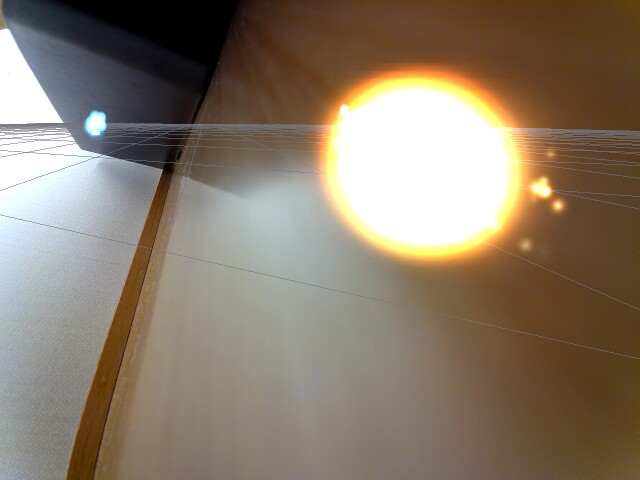firebig: (305, 48, 532, 267)
